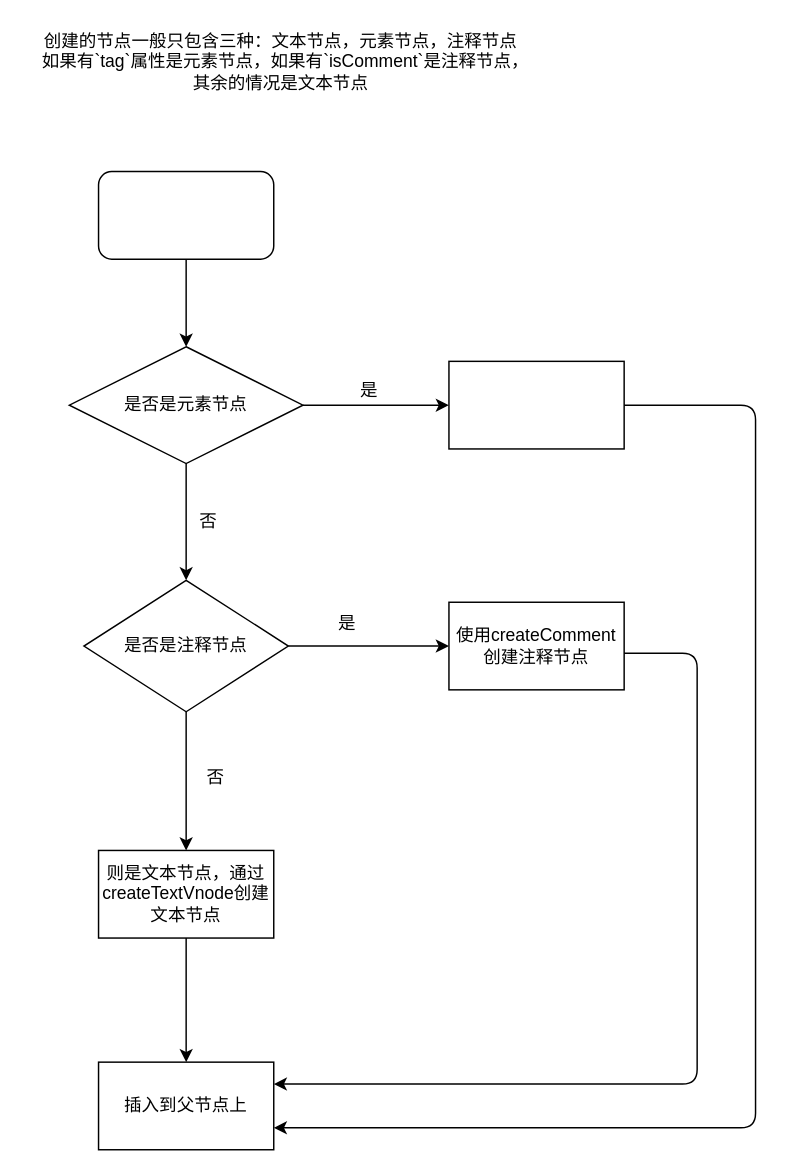
The diagram is 793 pixels wide and 1175 high, and some of its shapes have lost their labels. Each missing label, with the centre of its shape:
"使用createElement创建元素节点" goes at (535,404).
"创建节点" goes at (185,214).
